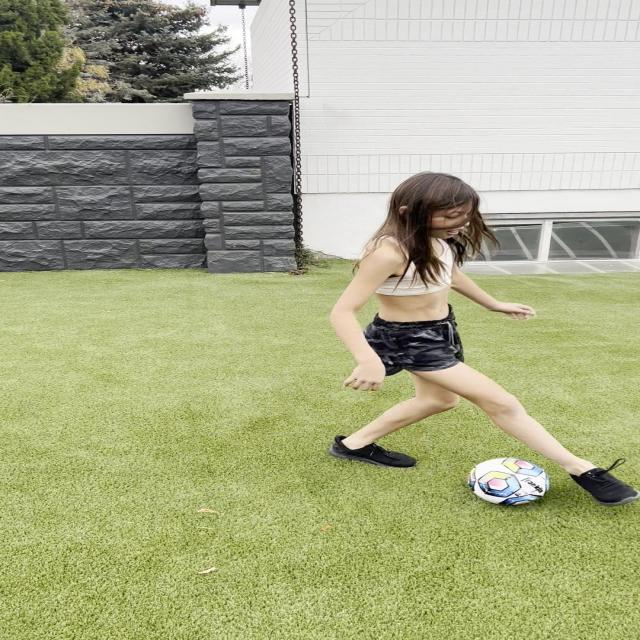Soccer Ball: (468, 458, 548, 505)
